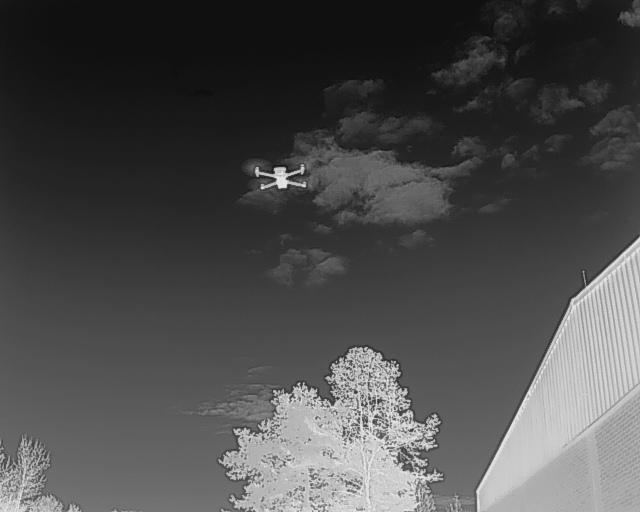drone: (239, 154, 325, 204)
